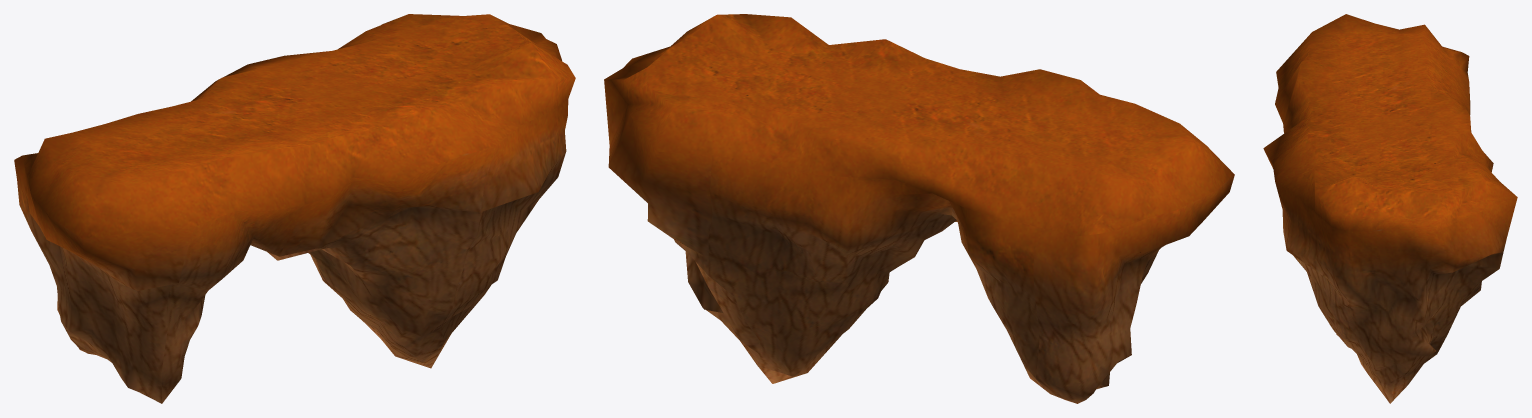
The model's file is isle_2.fbx.
3 views of the same model, side by side, from view 1: azimuth 30°, elevation 25°; view 2: azimuth 150°, elevation 25°; view 3: azimuth 270°, elevation 25° (orthographic). The views are drawn at different scales.
Visible parts, largest first — view 1: isle_2; view 2: isle_2; view 3: isle_2.
Boxes of the visible parts, bbox=[...] form: isle_2: bbox=[14, 14, 575, 403]; isle_2: bbox=[604, 14, 1234, 403]; isle_2: bbox=[1263, 14, 1517, 403].
Bounding box in the file's own units: 328 × 187 × 169.
